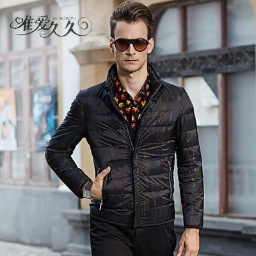face: (109, 2, 155, 74)
